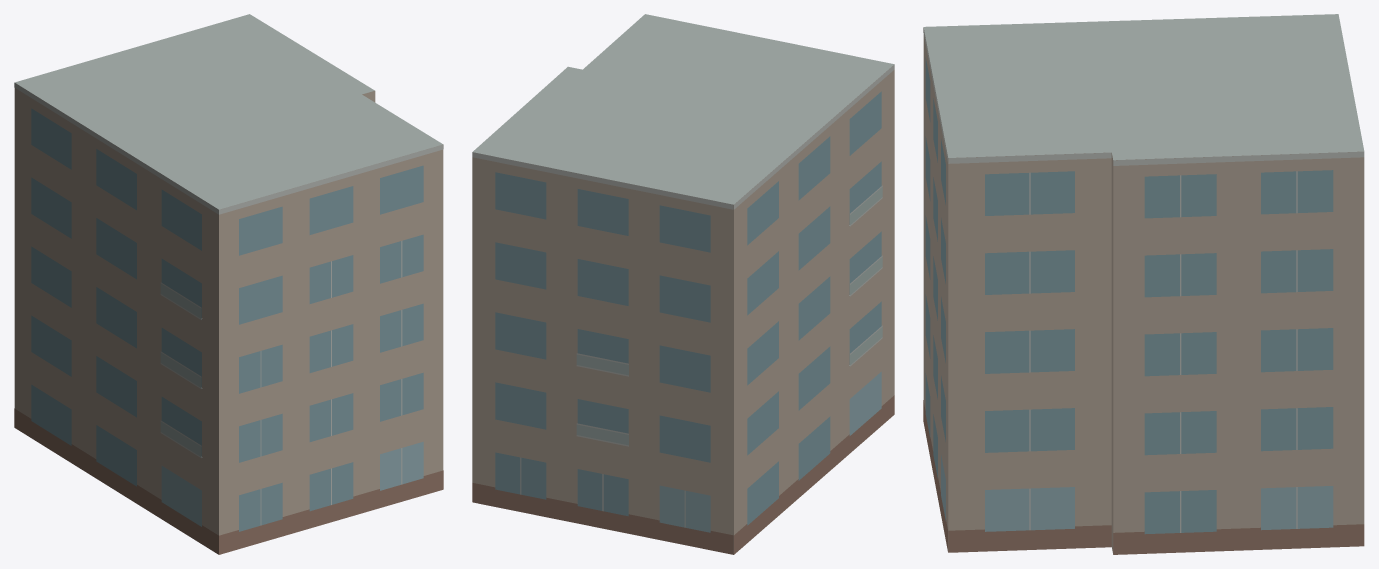
Rendered from survey-upis-32954702.glb.
3 views of the same model, side by side, from view 1: azimuth 30°, elevation 25°; view 2: azimuth 150°, elevation 25°; view 3: azimuth 270°, elevation 25° (orthographic). The views are drawn at different scales.
Parts seen in each view (by area): view 1: survey-upis-32954702.tmp; view 2: survey-upis-32954702.tmp; view 3: survey-upis-32954702.tmp.
Part boxes in pixels (box(x1,y1,x2,y2)): survey-upis-32954702.tmp: box(14, 14, 443, 554); survey-upis-32954702.tmp: box(472, 14, 894, 554); survey-upis-32954702.tmp: box(923, 14, 1364, 554).
Size of the model in its own units: 13.2 by 16.6 by 16.82.
